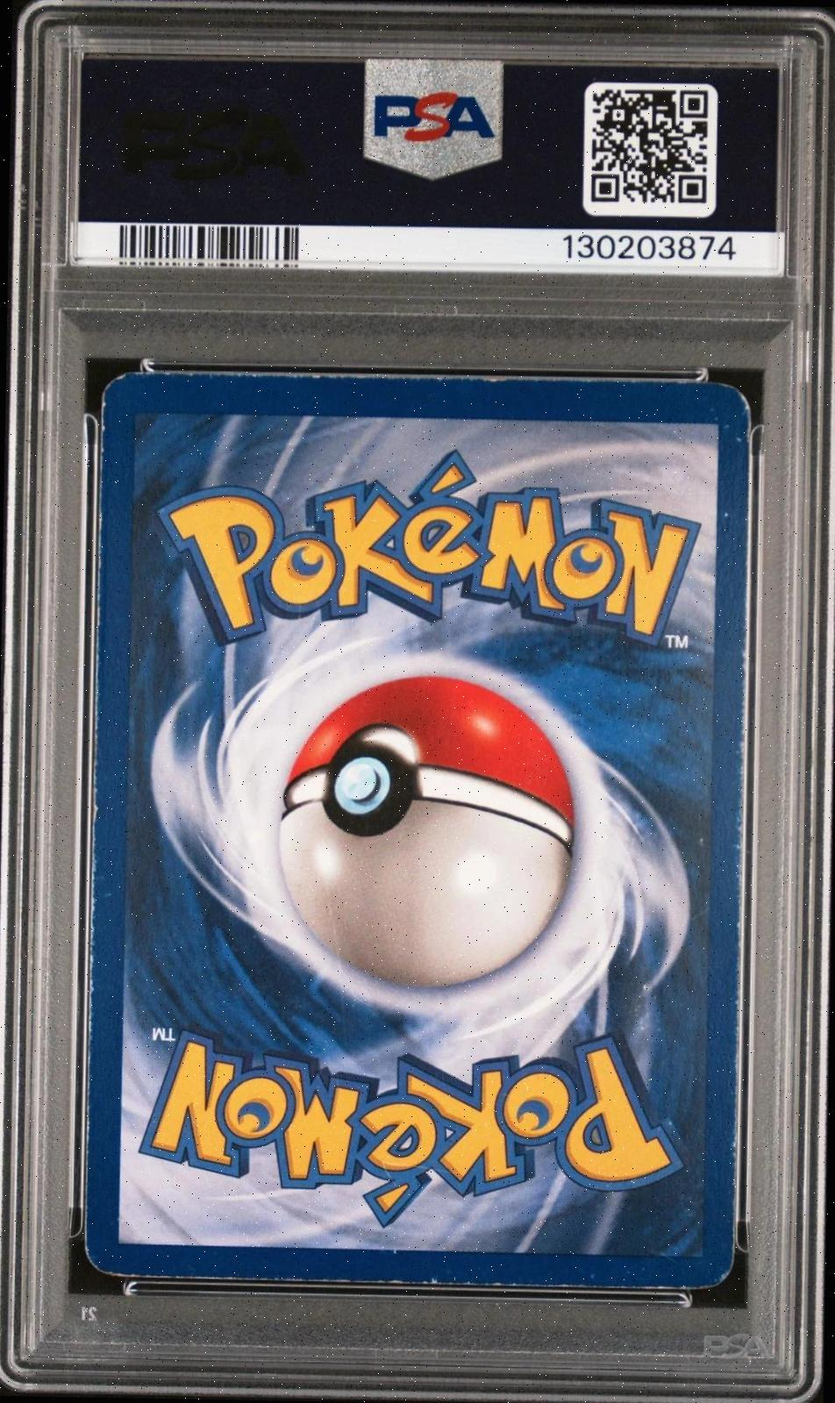card-2UtV: (83, 371, 752, 1290)
